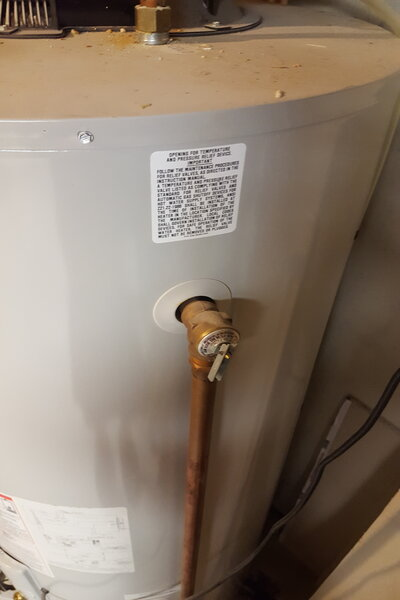valve: (174, 296, 243, 388)
